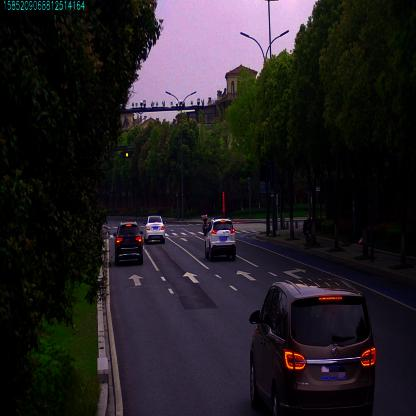traffic-light: (121, 152, 132, 157)
